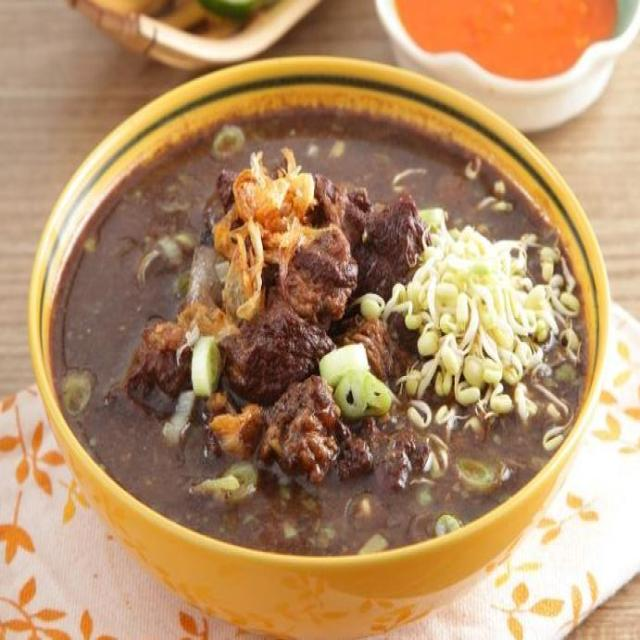Rawon: (64, 90, 577, 532)
